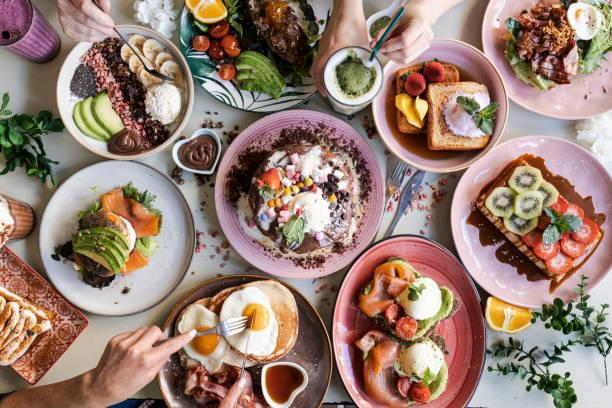Braised Crucian Carp: (214, 109, 377, 277), (451, 134, 608, 308), (331, 235, 485, 406), (37, 159, 192, 317), (155, 274, 325, 406), (372, 35, 508, 175), (56, 24, 192, 158), (182, 0, 327, 112), (481, 0, 609, 118), (260, 361, 307, 407)
